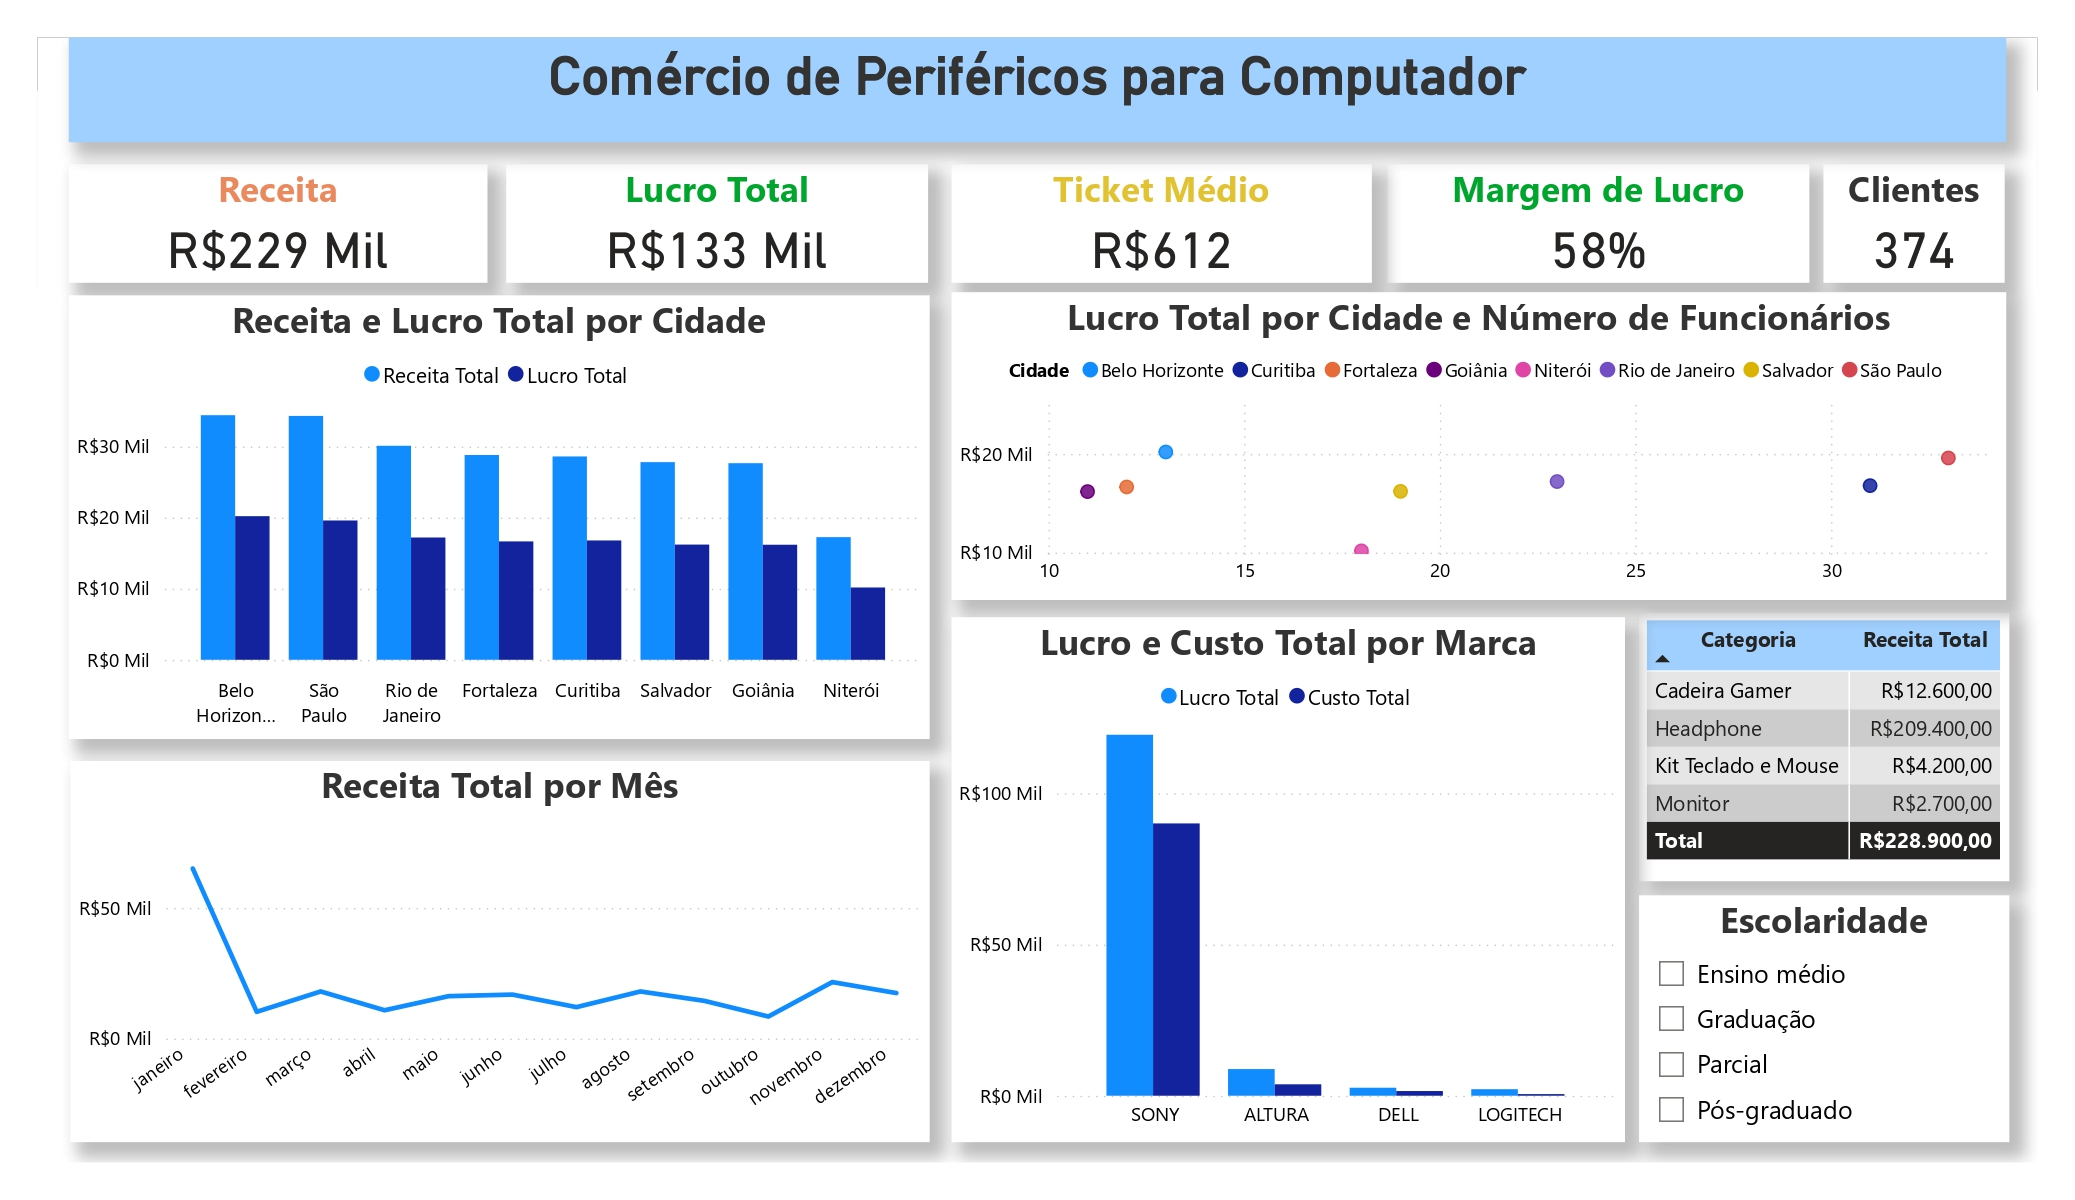

The dashboard page shown, as its layout file describes it:
{"tool":"powerbi","page":{"name":"Vendas","canvas":[1280,720],"ordinal":0},"visuals":[{"type":"card","title":"Receita","fields":{"Values":["banco pedidos.Receita Total"]},"box":[19.9,81.1,268.6,75.8],"z":0},{"type":"card","title":"Lucro Total","fields":{"Values":["banco pedidos.Lucro Total"]},"box":[300.5,81.1,269.9,75.8],"z":1000},{"type":"card","title":"Margem de Lucro","fields":{"Values":["banco pedidos.Margem de Lucros"]},"box":[864.1,81.1,269.9,75.8],"z":2000},{"type":"card","title":"Ticket Médio","fields":{"Values":["banco pedidos.Ticket Médio"]},"box":[585,81.1,268.6,75.8],"z":3000},{"type":"card","title":"Clientes","fields":{"Values":["banco pedidos.Clientes"]},"box":[1143.3,81.1,115.7,75.8],"z":4000},{"type":"pivotTable","fields":{"Rows":["banco categorias.Categoria"],"Values":["banco pedidos.Receita Total"]},"box":[1025,368.3,236.6,171.5],"z":5000},{"type":"clusteredColumnChart","title":"Receita e Lucro Total por Cidade","fields":{"Y":["banco pedidos.Receita Total","banco pedidos.Lucro Total"],"Category":["banco locais.Cidade"]},"box":[19.6,165.1,551.5,283.7],"z":6000},{"type":"lineChart","fields":{"Y":["banco pedidos.Receita Total"],"Category":["banco pedidos.Data_Venda.Variation.Hierarquia de datas.Mês"]},"box":[20.8,463.5,550.3,243.3],"z":7000},{"type":"scatterChart","title":"Lucro Total por Cidade e Número de Funcionários","fields":{"X":["banco lojas.Num_Funcionarios"],"Y":["banco pedidos.Lucro Total"],"Series":["banco locais.Cidade"]},"box":[584.5,162.6,675,196.9],"z":8000},{"type":"clusteredColumnChart","title":"Lucro e Custo Total por Marca","fields":{"Y":["banco pedidos.Lucro Total","banco pedidos.Custo Total"],"Category":["banco produtos.Marca_Produto"]},"box":[584.5,370.5,431.7,336.3],"z":9000},{"type":"textbox","box":[20,0,1240,67],"z":10000},{"type":"slicer","title":"Escolaridade","fields":{"Values":["banco clientes.Escolaridade"]},"box":[1025,549.1,236.6,158.2],"z":11000}]}

Visuals, with their boxes in screenshot pixels (x1, y1, x2, y2):
"Receita" card: [x1=69, y1=164, x2=488, y2=283]
"Lucro Total" card: [x1=507, y1=164, x2=929, y2=283]
"Margem de Lucro" card: [x1=1388, y1=164, x2=1809, y2=283]
"Ticket Médio" card: [x1=952, y1=164, x2=1371, y2=283]
"Clientes" card: [x1=1824, y1=164, x2=2005, y2=283]
pivotTable - banco categorias.Categoria x banco pedidos.Receita Total: [x1=1639, y1=613, x2=2009, y2=881]
"Receita e Lucro Total por Cidade" clusteredColumnChart: [x1=68, y1=295, x2=930, y2=739]
lineChart - banco pedidos.Receita Total x banco pedidos.Data_Venda.Variation.Hierarquia de datas.Mês: [x1=70, y1=762, x2=930, y2=1142]
"Lucro Total por Cidade e Número de Funcionários" scatterChart: [x1=951, y1=292, x2=2005, y2=599]
"Lucro e Custo Total por Marca" clusteredColumnChart: [x1=951, y1=616, x2=1625, y2=1142]
textbox: [x1=69, y1=38, x2=2006, y2=142]
"Escolaridade" slicer: [x1=1639, y1=895, x2=2009, y2=1143]
